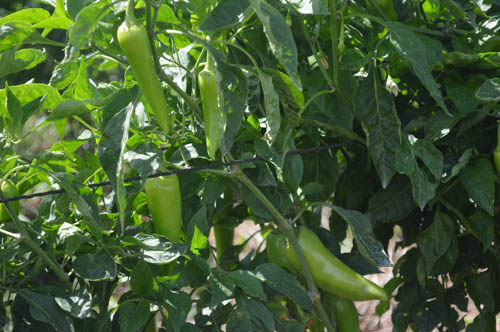ChiliPepper: (286, 220, 392, 309), (115, 20, 177, 139), (141, 171, 190, 271), (188, 59, 232, 163), (206, 183, 241, 271), (326, 296, 362, 332), (1, 179, 29, 223)
